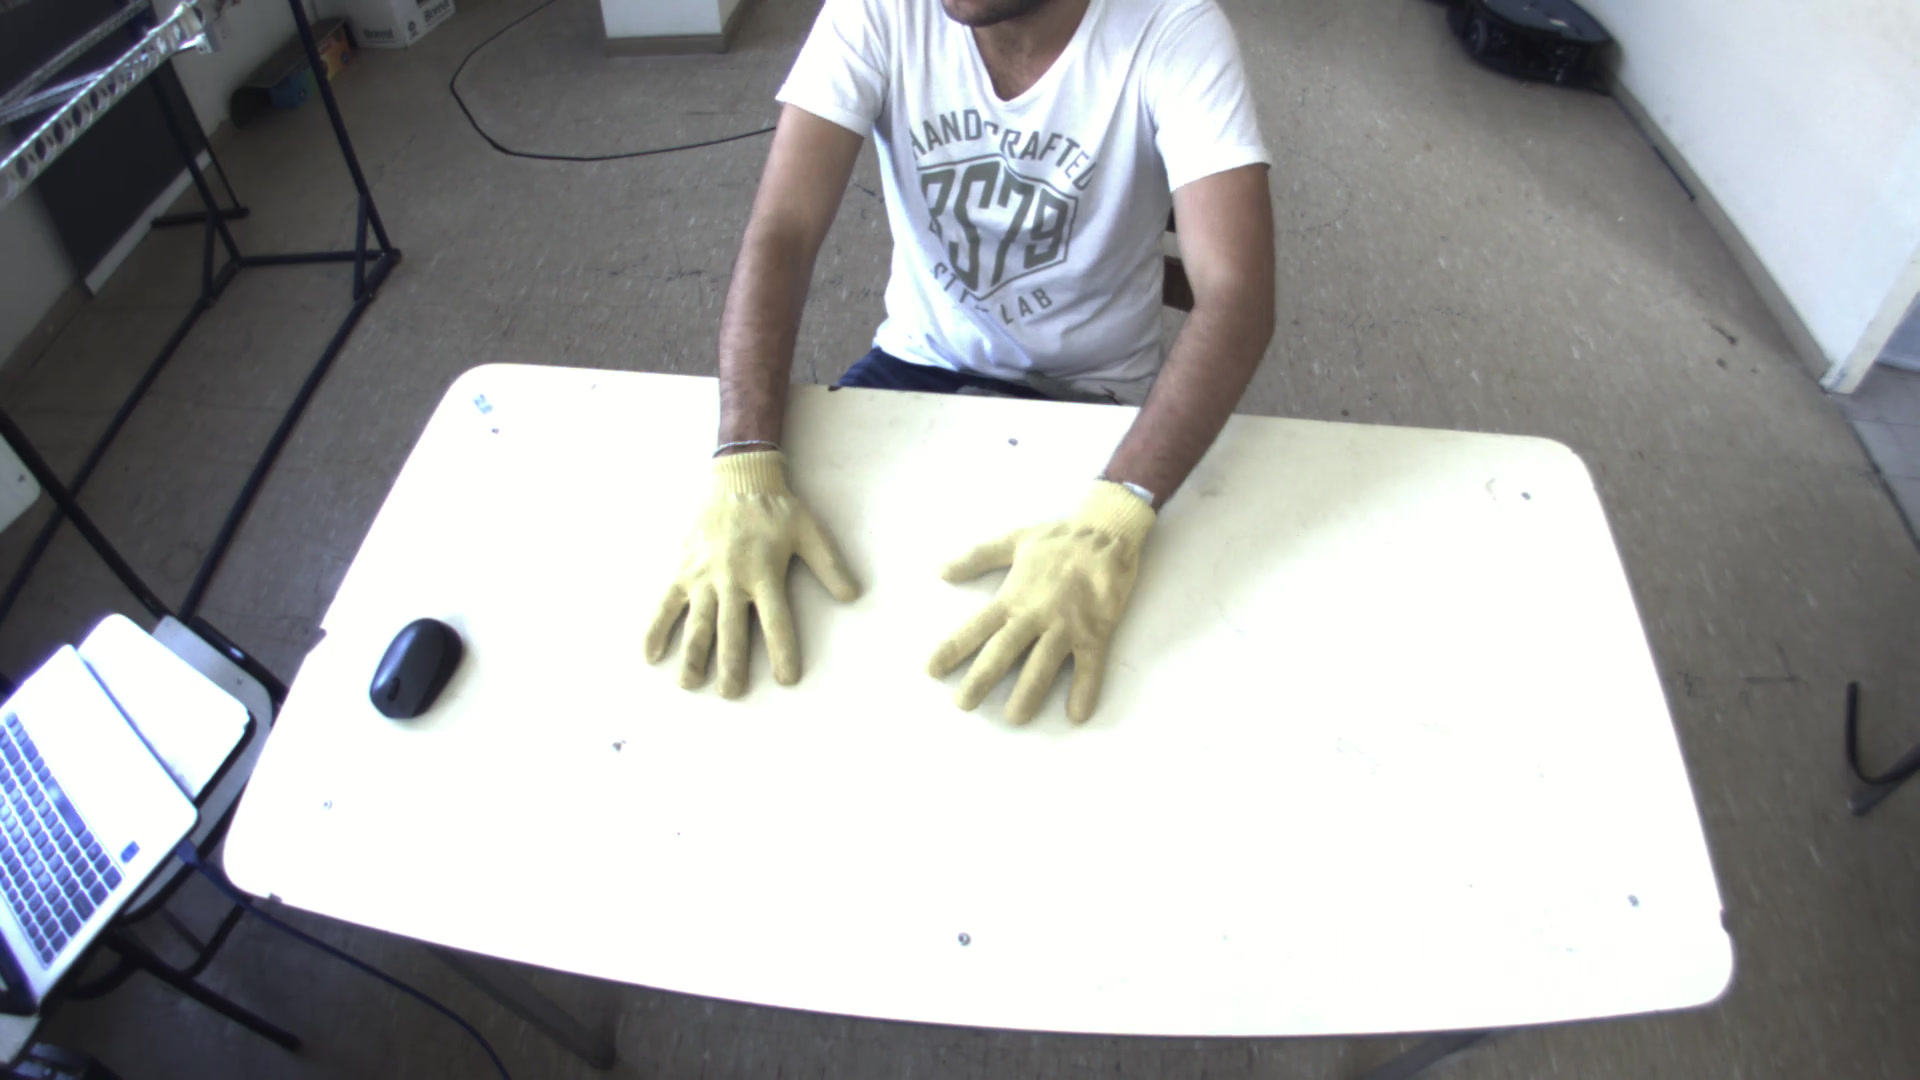hand: (630, 426, 872, 705), (913, 473, 1164, 741)
